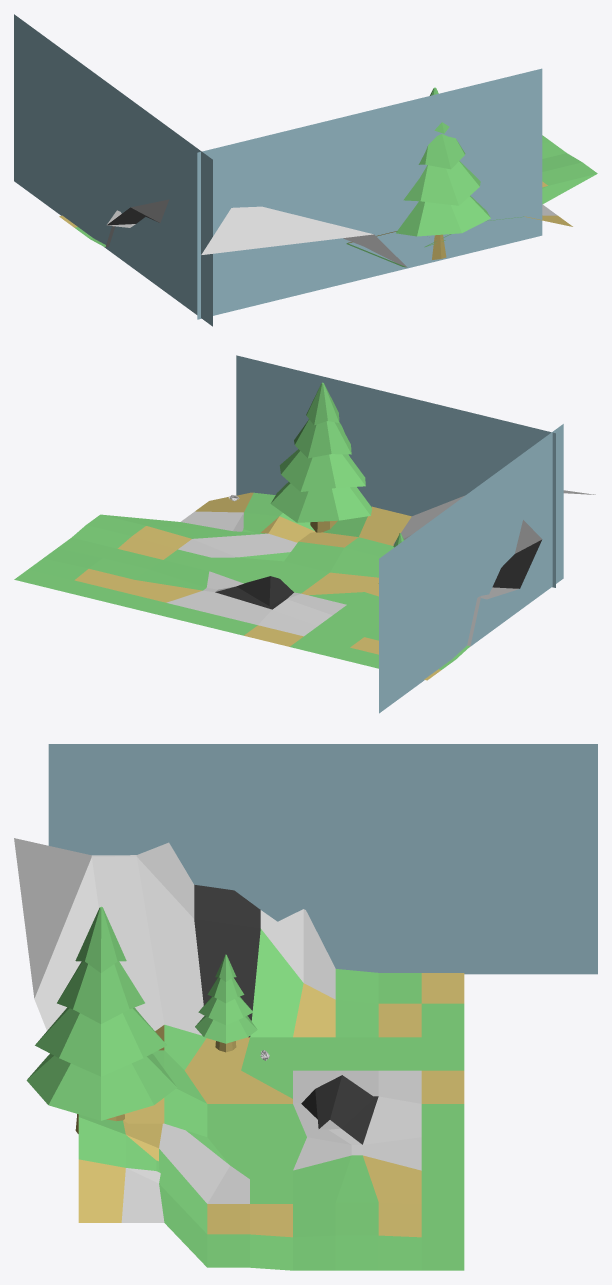
The model's file is set.fbx.
3 renders of one model, top to bottom at view 1: azimuth 30°, elevation 25°; view 2: azimuth 150°, elevation 25°; view 3: azimuth 270°, elevation 25°, orthographic. The views are drawn at different scales.
Visible parts, largest first — view 1: Plane.001, Plane.002, Grid, Cylinder.008; view 2: Grid, Plane.002, Plane.001, Cylinder.008; view 3: Grid, Plane.002, Cylinder.008, Cylinder.007.
Boxes of the visible parts, left/top/right/bottom form: Plane.001: left=197, top=68, right=542, bottom=319; Plane.002: left=14, top=14, right=212, bottom=326; Grid: left=59, top=135, right=597, bottom=267; Cylinder.008: left=396, top=87, right=490, bottom=259; Grid: left=14, top=490, right=595, bottom=680; Plane.002: left=379, top=424, right=563, bottom=713; Plane.001: left=236, top=355, right=555, bottom=587; Cylinder.008: left=270, top=382, right=371, bottom=532; Grid: left=14, top=838, right=464, bottom=1270; Plane.002: left=48, top=744, right=597, bottom=974; Cylinder.008: left=26, top=906, right=177, bottom=1133; Cylinder.007: left=195, top=954, right=257, bottom=1052.
Bounding box in the file's own units: 8317 × 2825 × 6456.
